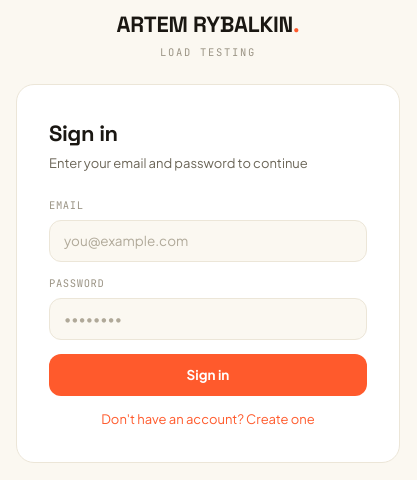
it: LoginPage — sign in mode › disables the button while signing in
The image size is (417, 480).
Type "alice@example.com" into the field with placeholder "you@example.com".
click(208, 241); type("alice@example.com")  # box top-left (49, 220), bottom-right (367, 262)
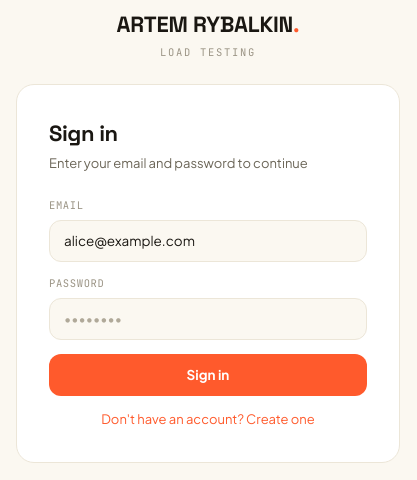
Type "password123" into the password field with placeholder "••••••••".
click(208, 319); type("password123")  # box top-left (49, 298), bottom-right (367, 340)
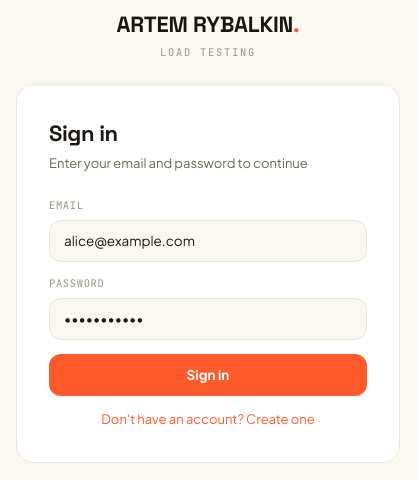
Click the button "Sign in".
click(208, 375)  # box top-left (49, 354), bottom-right (367, 396)
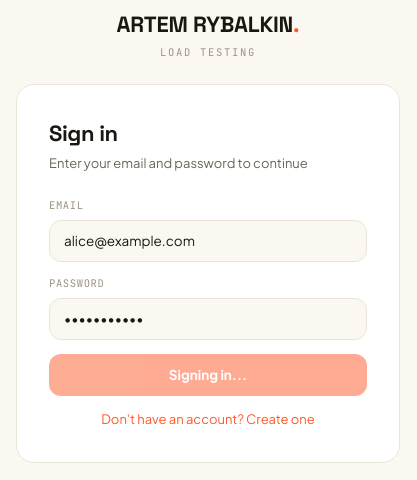
Expected: the button "Signing in..." is disabled, top-left (49, 354), bottom-right (367, 396)
